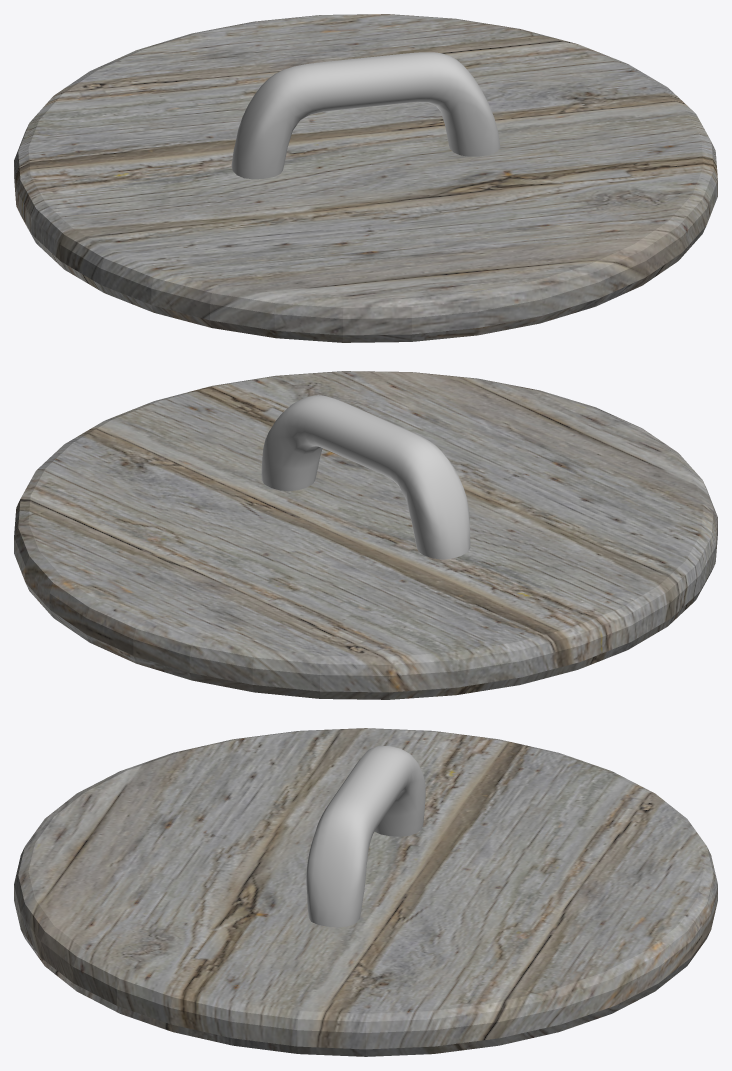
The model's file is VaseDeckel.gltf.
3 views of the same model, one above another, from view 1: azimuth 30°, elevation 25°; view 2: azimuth 150°, elevation 25°; view 3: azimuth 270°, elevation 25° (orthographic).
Parts seen in each view (by area): view 1: Plank, Grabber; view 2: Plank, Grabber; view 3: Plank, Grabber.
Boxes of the visible parts, left/top/right/bottom form: Plank: left=14, top=14, right=717, bottom=342; Grabber: left=231, top=52, right=500, bottom=179; Plank: left=14, top=371, right=717, bottom=699; Grabber: left=261, top=395, right=470, bottom=559; Plank: left=14, top=728, right=717, bottom=1056; Grabber: left=306, top=746, right=425, bottom=927.
Bounding box in the file's own units: 0.3 × 0.0652 × 0.3.
